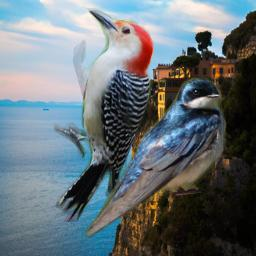Swallow: (85, 74, 227, 241)
Woodpecker: (54, 8, 154, 222)
